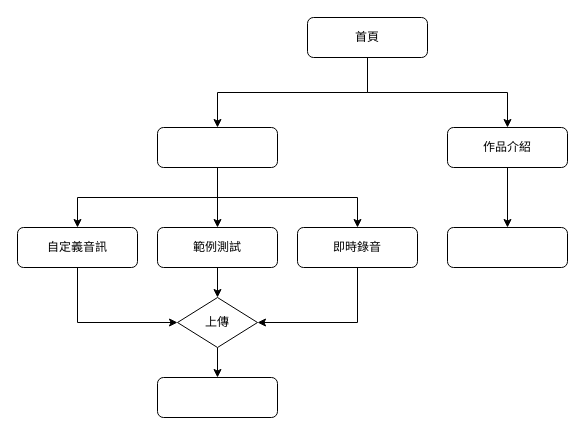
Image size: 585x435. Some labels were removed from this diagram. Here are the shapes that lost their labels. From the top down, the centre of each, then its label:
the point at 217,147: 開始使用
the point at 507,247: Youtube影片介紹
the point at 217,397: 結果顯示
